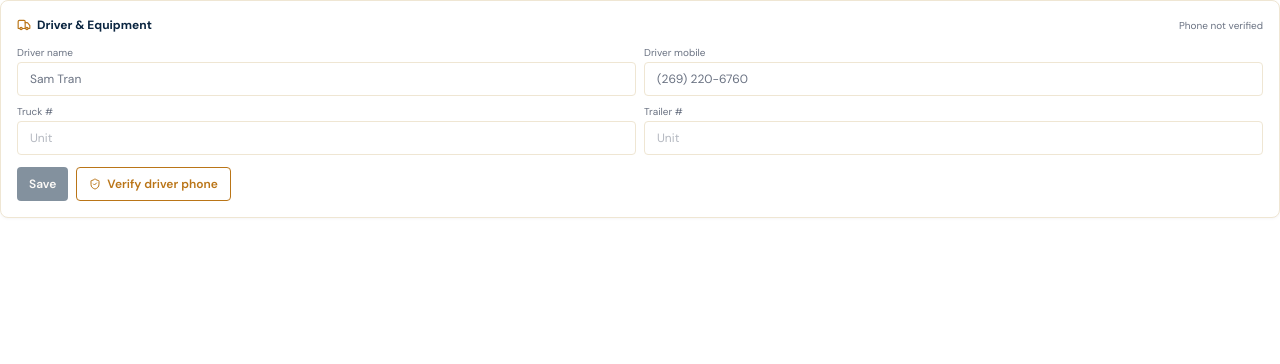
Test: DriverAssignmentPanel › verifies the handset: start, consent, code, confirm
This screenshot has width=1280, height=364.
Click the button "Verify driver phone" at [154, 184], box [76,167,231,201]
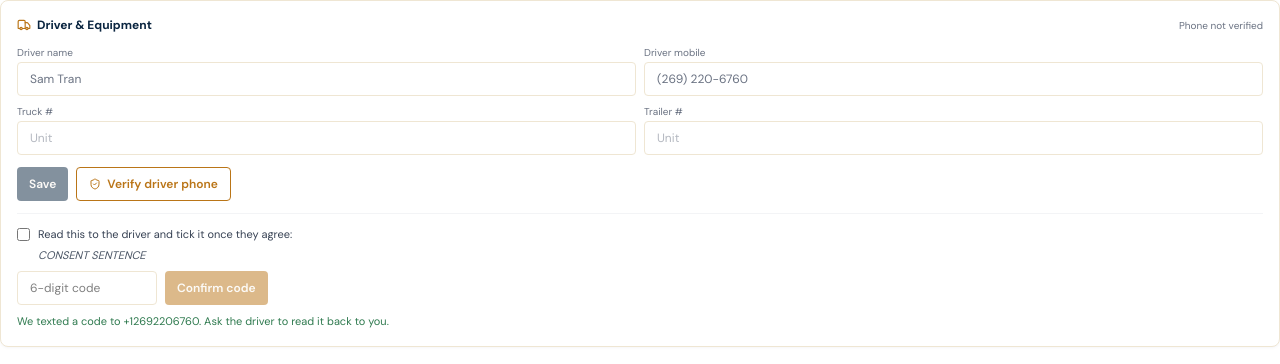
Now the text "CONSENT SENTENCE" is shown, box [38,248,146,262]
# The code alone is not enough: the consent tick is the consent.
Type "123456" into the field named "Verification code" at [87, 288], box [17,271,157,305]
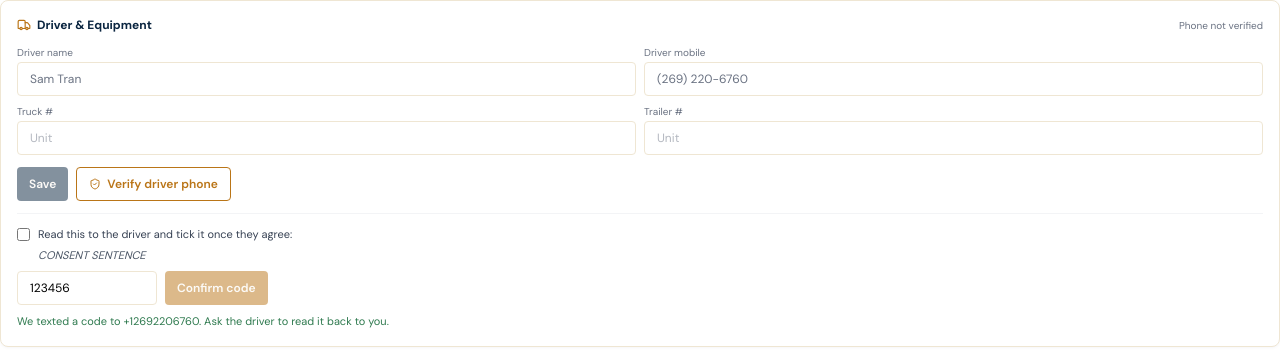
Now the button "Confirm code" is disabled, box [165,271,268,305]
Click the checkbox at [24, 234], box [17,228,30,241]
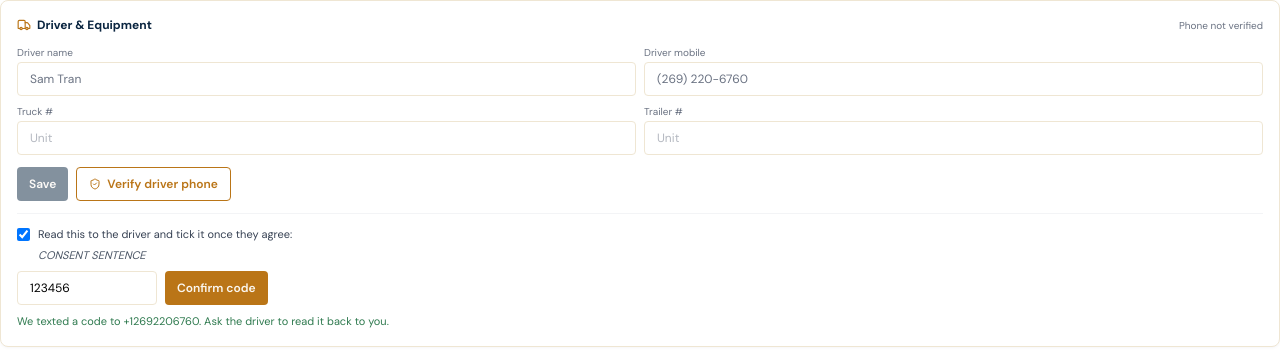
Now the button "Confirm code" is enabled
Click the button "Confirm code" at [216, 288], box [165,271,268,305]
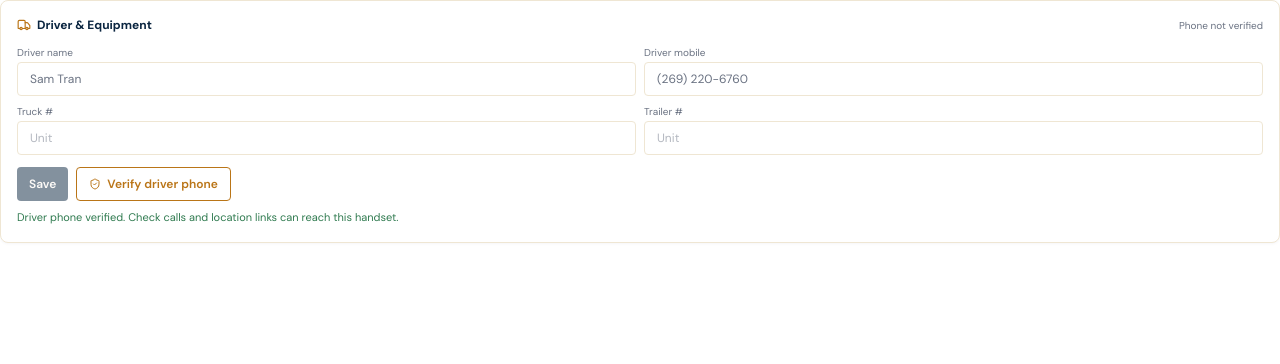
Now the text "Driver phone verified" is shown, box [17,210,398,224]
